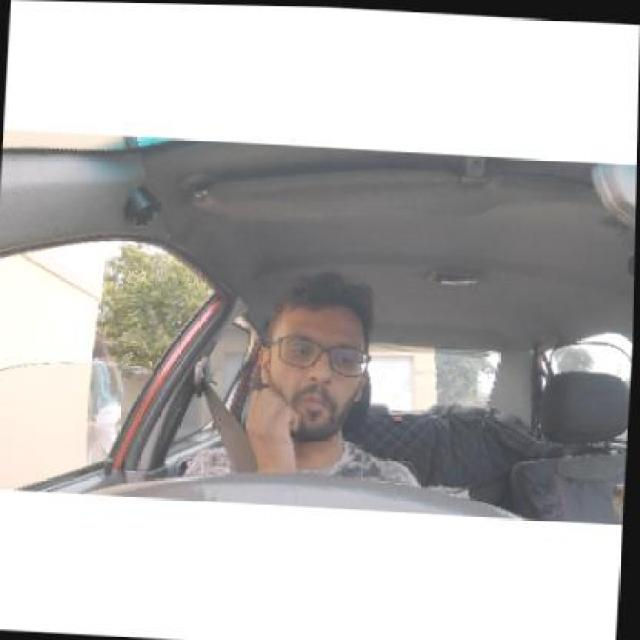person: (255, 269, 385, 450)
